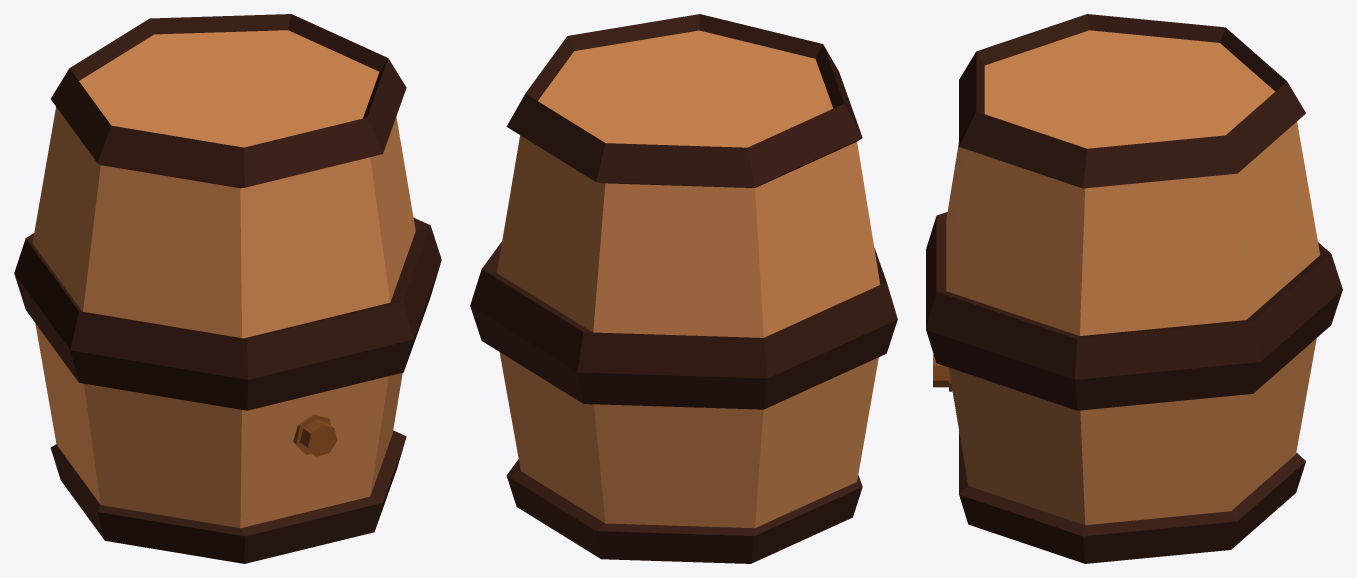
Rendered from barrel.fbx.
3 renders of one model, left to right at view 1: azimuth 30°, elevation 25°; view 2: azimuth 150°, elevation 25°; view 3: azimuth 270°, elevation 25°, orthographic.
Parts seen in each view (by area): view 1: barrel with plug v:119 f:104; view 2: barrel with plug v:119 f:104; view 3: barrel with plug v:119 f:104.
Part boxes in pixels (x1=…): barrel with plug v:119 f:104: x1=14, y1=14, x2=441, y2=563; barrel with plug v:119 f:104: x1=470, y1=14, x2=897, y2=563; barrel with plug v:119 f:104: x1=926, y1=14, x2=1342, y2=563.
Size of the model in its own units: 152 by 161 by 148.
